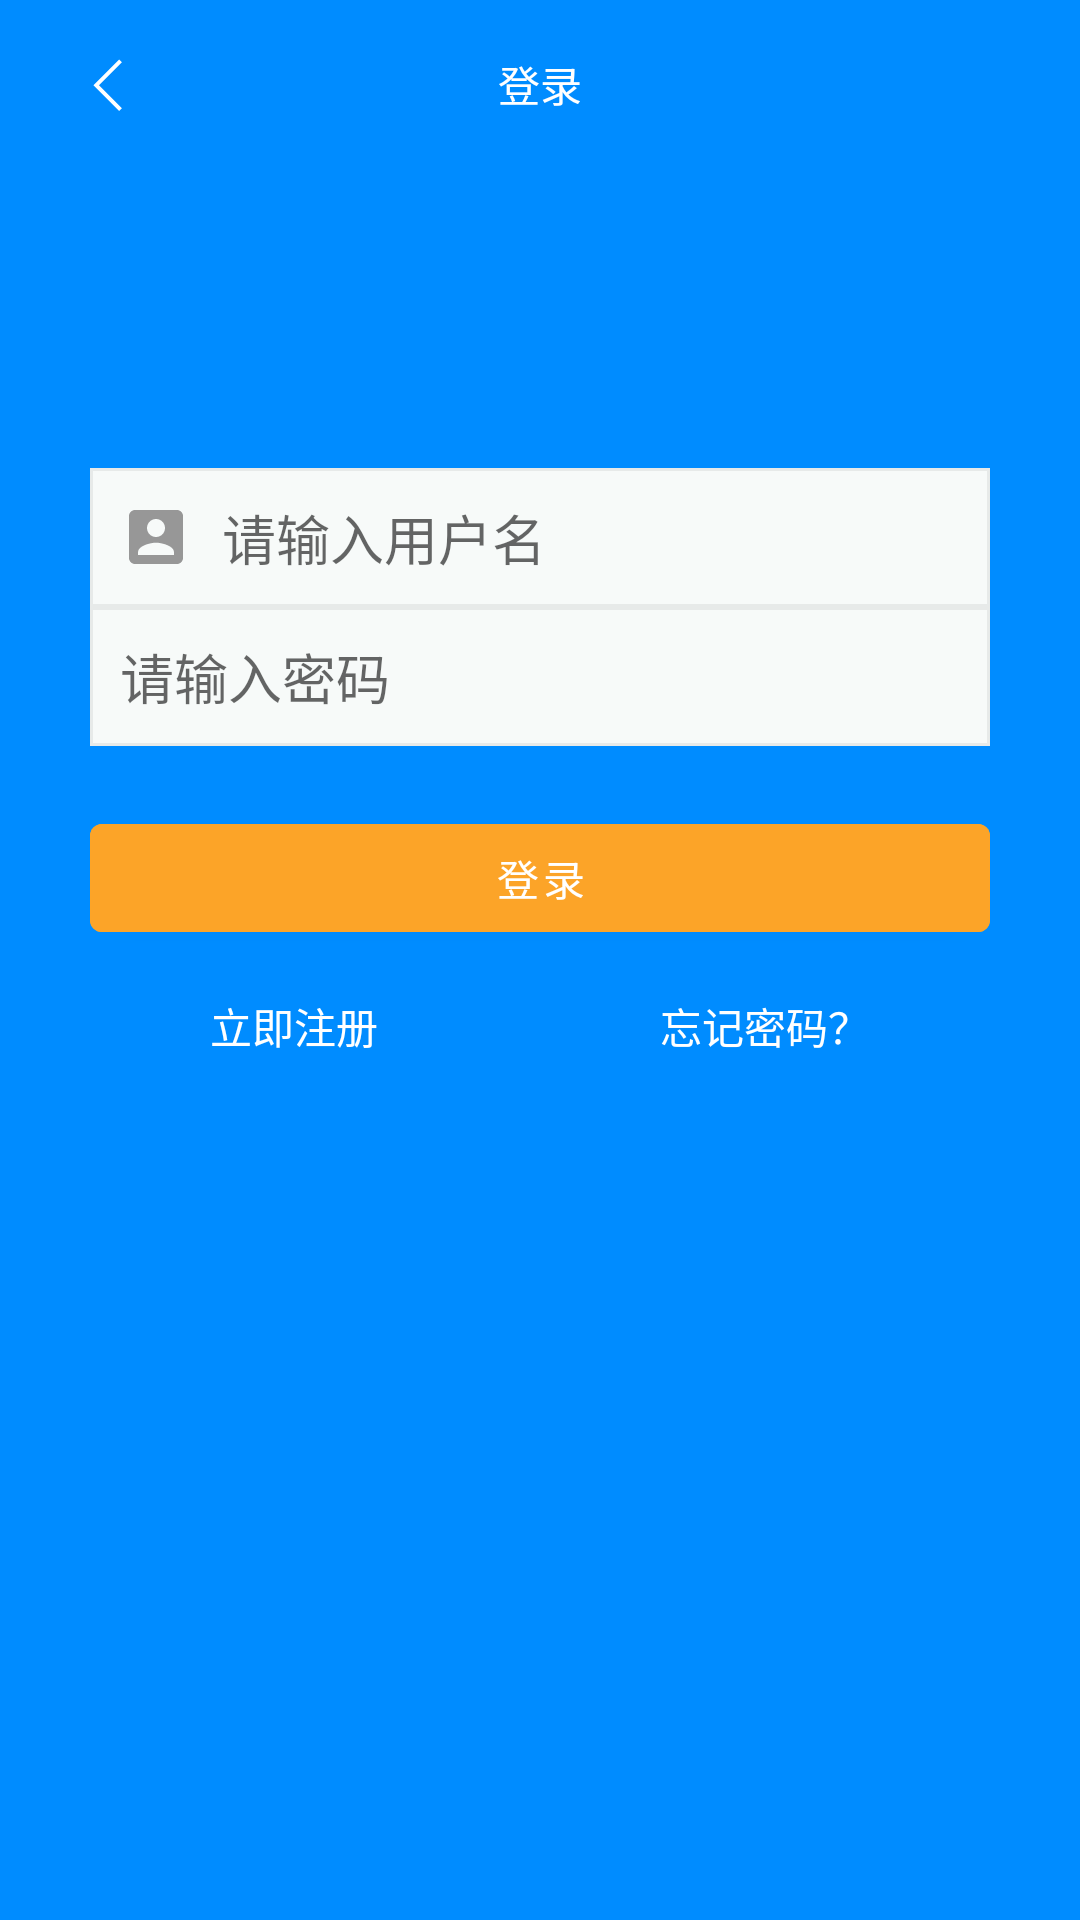

Icon bounding boxes for this 1080 × 1920 phone screenshot, format Rect(x1, y1, x2, y2):
back: Rect(93, 59, 122, 111)
